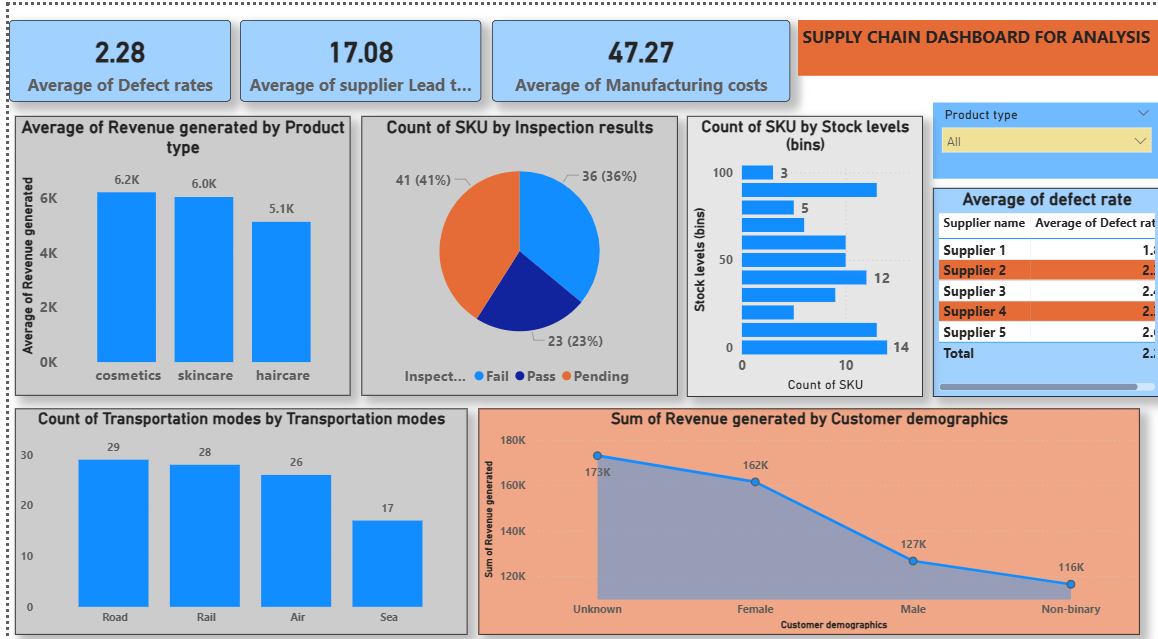

This screenshot's page, from the dashboard's own definition file:
{"tool":"powerbi","page":{"name":"Dashboard","canvas":[1280,720],"ordinal":6},"visuals":[{"type":"clusteredColumnChart","fields":{"Y":["Avg(supply_chain_data (1).Revenue generated)"],"Category":["supply_chain_data (1).Product type"]},"box":[6.1,124.2,372.5,310.4],"z":0},{"type":"pieChart","fields":{"Series":["supply_chain_data (1).Inspection results"],"Y":["CountNonNull(supply_chain_data (1).SKU)"]},"box":[392.2,124.2,351.3,310.4],"z":1000},{"type":"tableEx","title":"Average of defect rate","fields":{"Values":["supply_chain_data (1).Supplier name","Avg(supply_chain_data (1).Defect rates)"]},"box":[1026.6,202.9,252.9,231.7],"z":2000},{"type":"columnChart","fields":{"Y":["CountNonNull(supply_chain_data (1).Transportation modes)"],"Category":["supply_chain_data (1).Transportation modes"]},"box":[6.1,448.2,502.7,251.4],"z":3000},{"type":"lineChart","fields":{"Category":["supply_chain_data (1).Customer demographics"],"Y":["Sum(supply_chain_data (1).Revenue generated)"]},"box":[520.9,448.2,734.4,251.4],"z":4000},{"type":"card","fields":{"Values":["Avg(supply_chain_data (1).Defect rates)"]},"box":[0,16.7,246.8,90.9],"z":6000},{"type":"card","fields":{"Values":["Avg(supply_chain_data (1).supplier Lead time)"]},"box":[257.4,16.7,268,90.9],"z":7000},{"type":"card","fields":{"Values":["Avg(supply_chain_data (1).Manufacturing costs)"]},"box":[536,16.7,331.6,90.9],"z":8000},{"type":"textbox","box":[876.7,16.7,402.8,62.1],"z":10000},{"type":"slicer","fields":{"Values":["supply_chain_data (1).Product type"]},"box":[1026.6,107.5,252.9,84.8],"z":11000},{"type":"clusteredBarChart","fields":{"Category":["supply_chain_data (1).Stock levels (bins)"],"Y":["CountNonNull(supply_chain_data (1).SKU)"]},"box":[752.6,124.2,262,311.9],"z":11001}]}

Visuals, with their boxes in screenshot pixels (x1, y1, x2, y2), scaled from the page's 1280x720 canvas onto the 1158x639 screenshot:
clusteredColumnChart - Avg(supply_chain_data (1).Revenue generated) x supply_chain_data (1).Product type: detection(6, 110, 343, 386)
pieChart - supply_chain_data (1).Inspection results x CountNonNull(supply_chain_data (1).SKU): detection(355, 110, 673, 386)
"Average of defect rate" tableEx: detection(929, 180, 1157, 386)
columnChart - CountNonNull(supply_chain_data (1).Transportation modes) x supply_chain_data (1).Transportation modes: detection(6, 398, 460, 621)
lineChart - supply_chain_data (1).Customer demographics x Sum(supply_chain_data (1).Revenue generated): detection(471, 398, 1136, 621)
card - Avg(supply_chain_data (1).Defect rates): detection(0, 15, 223, 95)
card - Avg(supply_chain_data (1).supplier Lead time): detection(233, 15, 475, 95)
card - Avg(supply_chain_data (1).Manufacturing costs): detection(485, 15, 785, 95)
textbox: detection(793, 15, 1157, 70)
slicer - supply_chain_data (1).Product type: detection(929, 95, 1157, 171)
clusteredBarChart - supply_chain_data (1).Stock levels (bins) x CountNonNull(supply_chain_data (1).SKU): detection(681, 110, 918, 387)
